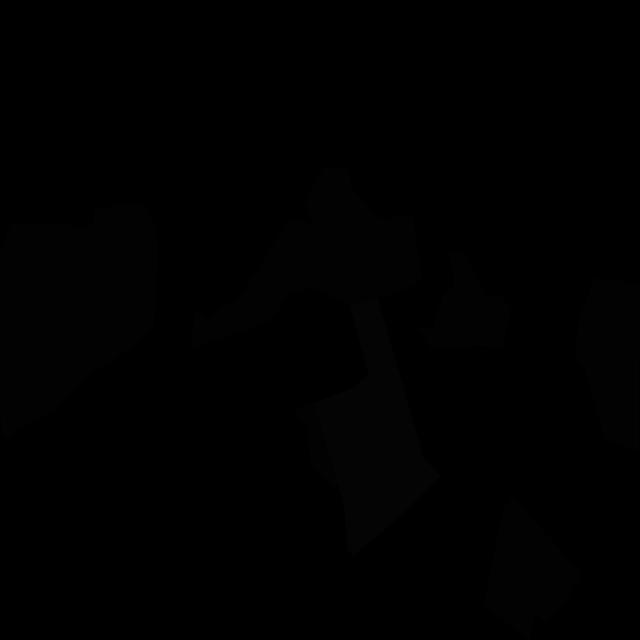cardboard: (0, 202, 158, 439), (190, 217, 367, 349), (304, 166, 422, 302), (484, 497, 582, 640), (575, 278, 640, 451), (417, 250, 512, 350), (293, 403, 337, 491)
soft_plastic: (314, 298, 441, 556)
